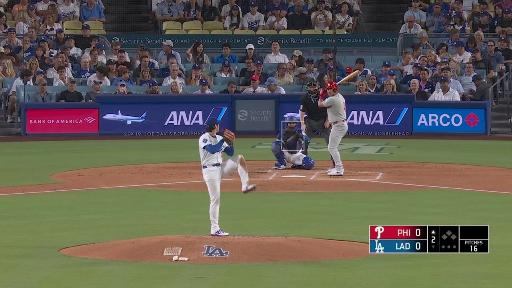pitcher: (199, 117, 259, 237)
